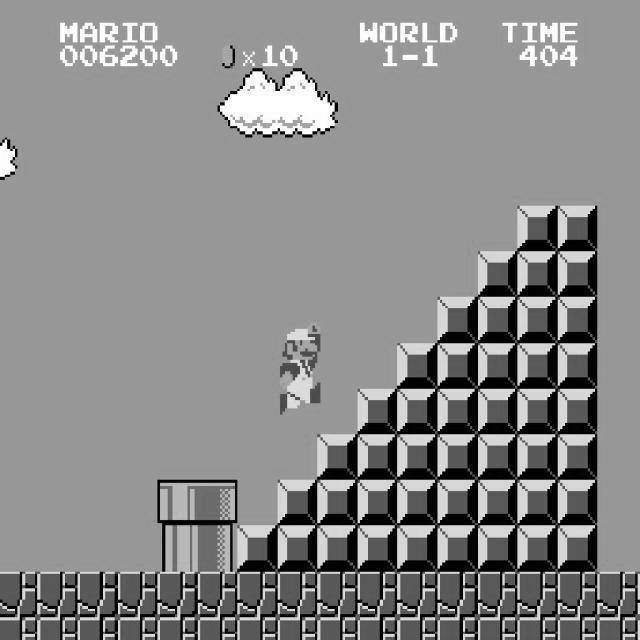14- pipe: (157, 526, 198, 572), (197, 526, 238, 572)
15- pipe_head: (157, 480, 198, 526), (197, 480, 238, 526)
17- undestructible_block: (37, 572, 78, 618), (77, 572, 118, 618), (117, 572, 158, 618), (157, 572, 198, 618), (197, 572, 238, 618), (237, 572, 278, 618), (277, 572, 318, 618), (317, 572, 358, 618), (357, 572, 398, 618), (397, 572, 438, 618), (437, 572, 478, 618), (477, 572, 518, 618), (517, 572, 558, 618), (557, 572, 598, 618), (597, 572, 638, 618), (0, 572, 37, 618), (37, 617, 78, 640), (77, 617, 118, 640), (117, 617, 158, 640), (157, 617, 198, 640), (197, 617, 238, 640), (237, 617, 278, 640), (277, 617, 318, 640), (317, 617, 358, 640), (357, 617, 398, 640), (397, 617, 438, 640), (437, 617, 478, 640), (477, 617, 518, 640), (517, 617, 558, 640), (557, 617, 598, 640), (597, 617, 638, 640), (0, 617, 37, 640), (637, 571, 640, 617), (637, 617, 640, 639)
4- fire_mario: (277, 320, 320, 414)
9- hard_block: (237, 526, 278, 572), (277, 480, 318, 526), (277, 526, 318, 572), (317, 434, 358, 480), (317, 480, 358, 526), (317, 526, 358, 572), (357, 388, 398, 434), (357, 434, 398, 480), (357, 480, 398, 526), (357, 526, 398, 572), (397, 388, 438, 434), (397, 434, 438, 480), (397, 480, 438, 526), (397, 526, 438, 572), (437, 297, 478, 343), (437, 388, 478, 434), (437, 434, 478, 480), (437, 480, 478, 526), (437, 526, 478, 572), (477, 252, 518, 298), (477, 297, 518, 343), (477, 388, 518, 434), (477, 434, 518, 480), (477, 480, 518, 526), (477, 526, 518, 572), (517, 252, 558, 298), (517, 297, 558, 343), (517, 388, 558, 434), (517, 434, 558, 480), (517, 480, 558, 526), (517, 526, 558, 572), (557, 252, 598, 298), (557, 297, 598, 343), (557, 388, 598, 434), (557, 434, 598, 480), (557, 480, 598, 526), (557, 526, 598, 572), (397, 343, 438, 388), (437, 343, 478, 388), (477, 343, 518, 388), (517, 206, 558, 251), (517, 343, 558, 388), (557, 206, 598, 251), (557, 343, 598, 388)
